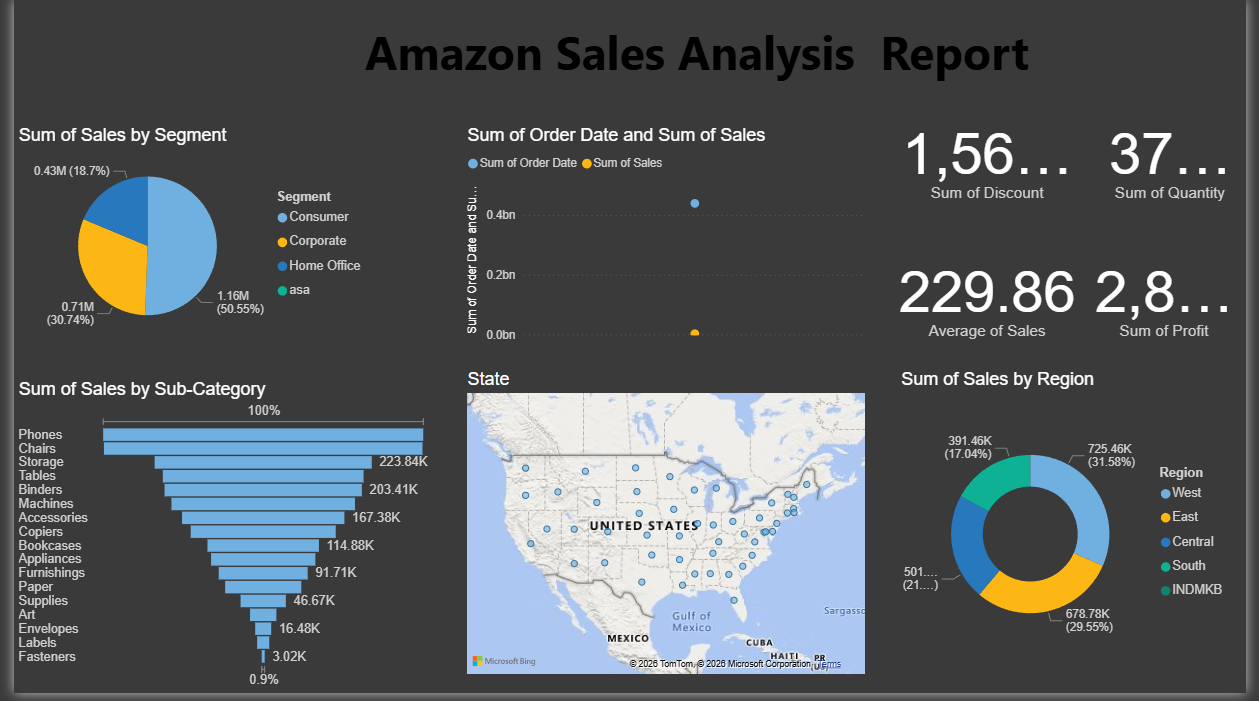

This screenshot's page, from the dashboard's own definition file:
{"tool":"powerbi","page":{"name":"Page 1","canvas":[1280,720],"ordinal":0},"visuals":[{"type":"donutChart","fields":{"Category":["Orders.Region"],"Y":["Sum(Orders.Sales)"]},"box":[916.9,383.1,352.3,323.1],"z":0},{"type":"funnel","fields":{"Category":["Orders.Sub-Category"],"Y":["Sum(Orders.Sales)"]},"box":[0,393.8,435.4,326.2],"z":1000},{"type":"map","fields":{"Category":["Orders.State"]},"box":[466.2,383.1,423.1,323.1],"z":2000},{"type":"pieChart","fields":{"Category":["Orders.Segment"],"Y":["Sum(Orders.Sales)"]},"box":[0,129.2,373.8,230.8],"z":3000},{"type":"lineChart","fields":{"Y":["Sum(Orders.Order Date)","Sum(Orders.Sales)"]},"box":[466.2,129.2,423.1,230.8],"z":4000},{"type":"card","fields":{"Values":["Avg(Orders.Sales)"]},"box":[901.5,229.2,220,153.8],"z":5000},{"type":"card","fields":{"Values":["Sum(Orders.Profit)"]},"box":[1110.8,229.2,169.2,153.8],"z":6000},{"type":"card","fields":{"Values":["Sum(Orders.Discount)"]},"box":[901.5,96.9,220,132.3],"z":7000},{"type":"card","fields":{"Values":["Sum(Orders.Quantity)"]},"box":[1121.5,96.9,158.5,132.3],"z":8000},{"type":"textbox","box":[360,15.4,827.7,81.5],"z":9000}]}

Visuals, with their boxes in screenshot pixels (x1, y1, x2, y2), scaled from the page's 1280x720 canvas onto the 1259x701 screenshot:
donutChart - Orders.Region x Sum(Orders.Sales): bbox(902, 373, 1248, 688)
funnel - Orders.Sub-Category x Sum(Orders.Sales): bbox(0, 383, 428, 700)
map - Orders.State: bbox(459, 373, 875, 688)
pieChart - Orders.Segment x Sum(Orders.Sales): bbox(0, 126, 368, 350)
lineChart - Sum(Orders.Order Date) x Sum(Orders.Sales): bbox(459, 126, 875, 350)
card - Avg(Orders.Sales): bbox(887, 223, 1103, 373)
card - Sum(Orders.Profit): bbox(1093, 223, 1258, 373)
card - Sum(Orders.Discount): bbox(887, 94, 1103, 223)
card - Sum(Orders.Quantity): bbox(1103, 94, 1258, 223)
textbox: bbox(354, 15, 1168, 94)
